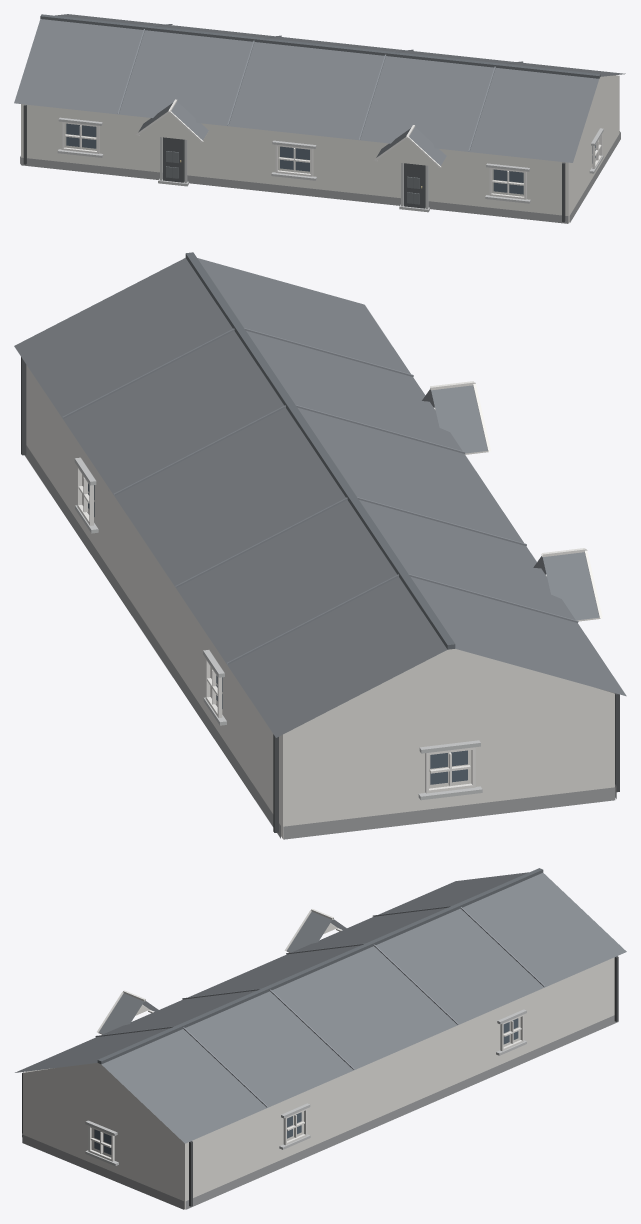
The picture shows the model from 3 angles, top to bottom: view 1: azimuth 30°, elevation 25°; view 2: azimuth 150°, elevation 25°; view 3: azimuth 270°, elevation 25°; orthographic projection. The views are drawn at different scales.
Visible parts, largest first — view 1: slate, harl, plinth, slate_dk, frame, stone_band, door_dark, slate_lt, door_dark_p, pipe; view 2: slate, harl, plinth, slate_dk, slate_lt, frame, stone_band, pipe; view 3: slate, harl, plinth, slate_dk, frame, slate_lt, stone_band, pipe.
Boxes of the visible parts, box(x1,y1,x2,y2) form: slate: box(14, 14, 625, 165); harl: box(21, 75, 619, 223); plinth: box(20, 131, 620, 223); slate_dk: box(40, 14, 600, 78); frame: box(62, 99, 602, 199); stone_band: box(57, 117, 603, 212); door_dark: box(163, 137, 425, 208); slate_lt: box(117, 24, 523, 151); door_dark_p: box(166, 151, 419, 204); pipe: box(23, 105, 565, 222); slate: box(14, 258, 626, 737); harl: box(26, 365, 614, 838); plinth: box(25, 445, 616, 839); slate_dk: box(185, 252, 455, 649); slate_lt: box(62, 328, 578, 664); frame: box(77, 381, 602, 793); stone_band: box(74, 457, 482, 800); pipe: box(21, 357, 619, 832); slate: box(15, 872, 626, 1143); harl: box(23, 924, 617, 1209); plinth: box(22, 1015, 618, 1209); slate_dk: box(97, 868, 543, 1064); frame: box(88, 909, 523, 1161); slate_lt: box(95, 906, 545, 1107); stone_band: box(85, 1009, 526, 1165); pipe: box(22, 956, 618, 1206).
Bounding box in the file's own units: 23.05 × 4.83 × 22.74.
